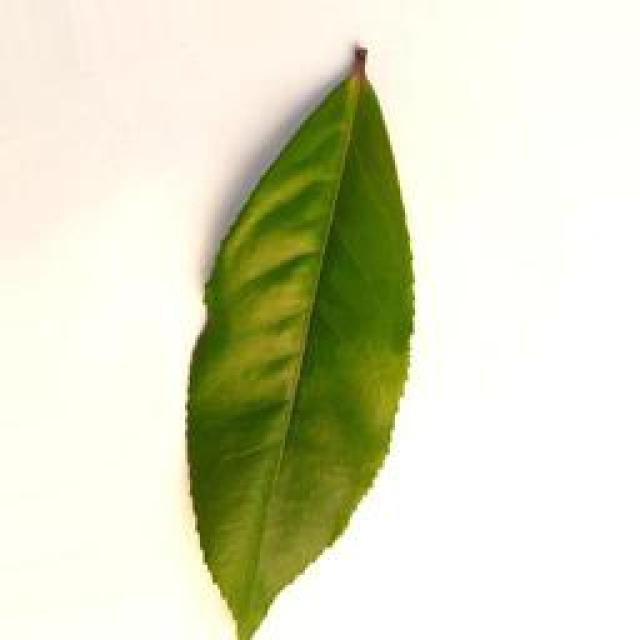Healthy: (183, 43, 441, 640)
